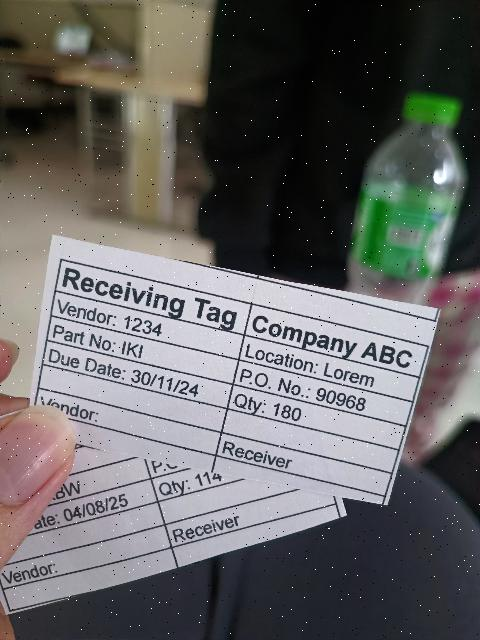PO no: (233, 361, 413, 427)
part no: (47, 315, 239, 385)
qty: (227, 385, 405, 451)
tags: (31, 236, 439, 504)
